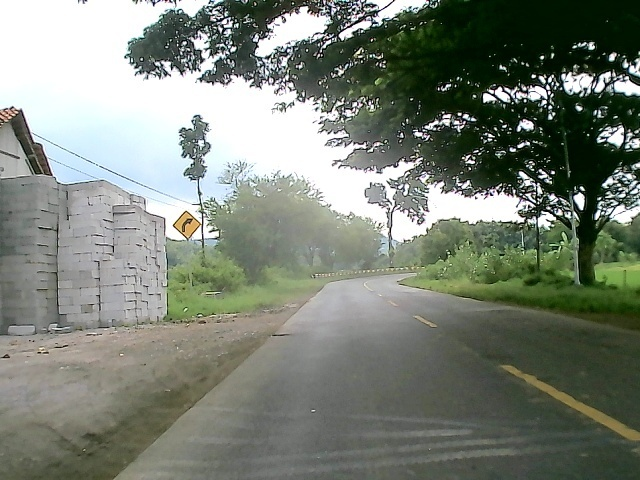Tikungan ke kanan: (171, 210, 204, 244)
